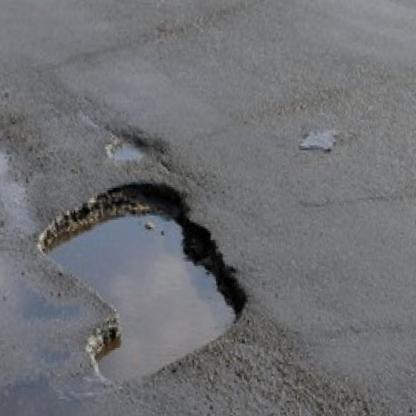pothole: (35, 177, 254, 393), (106, 133, 151, 163)
